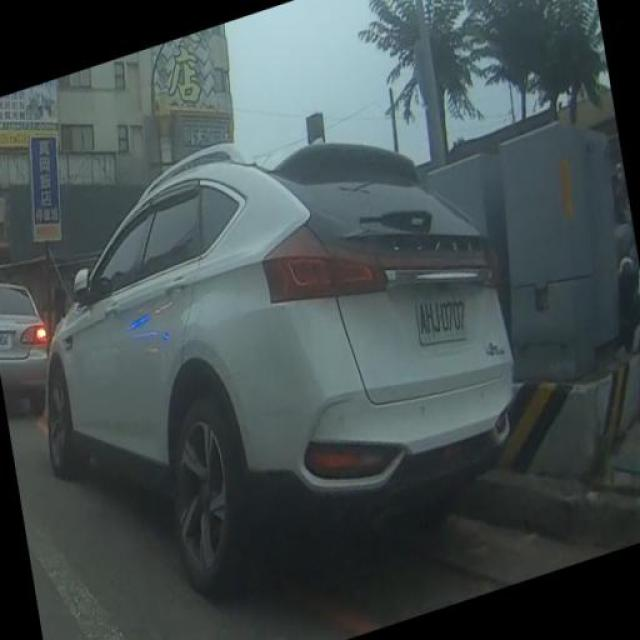illegalparking: (27, 101, 550, 601)
